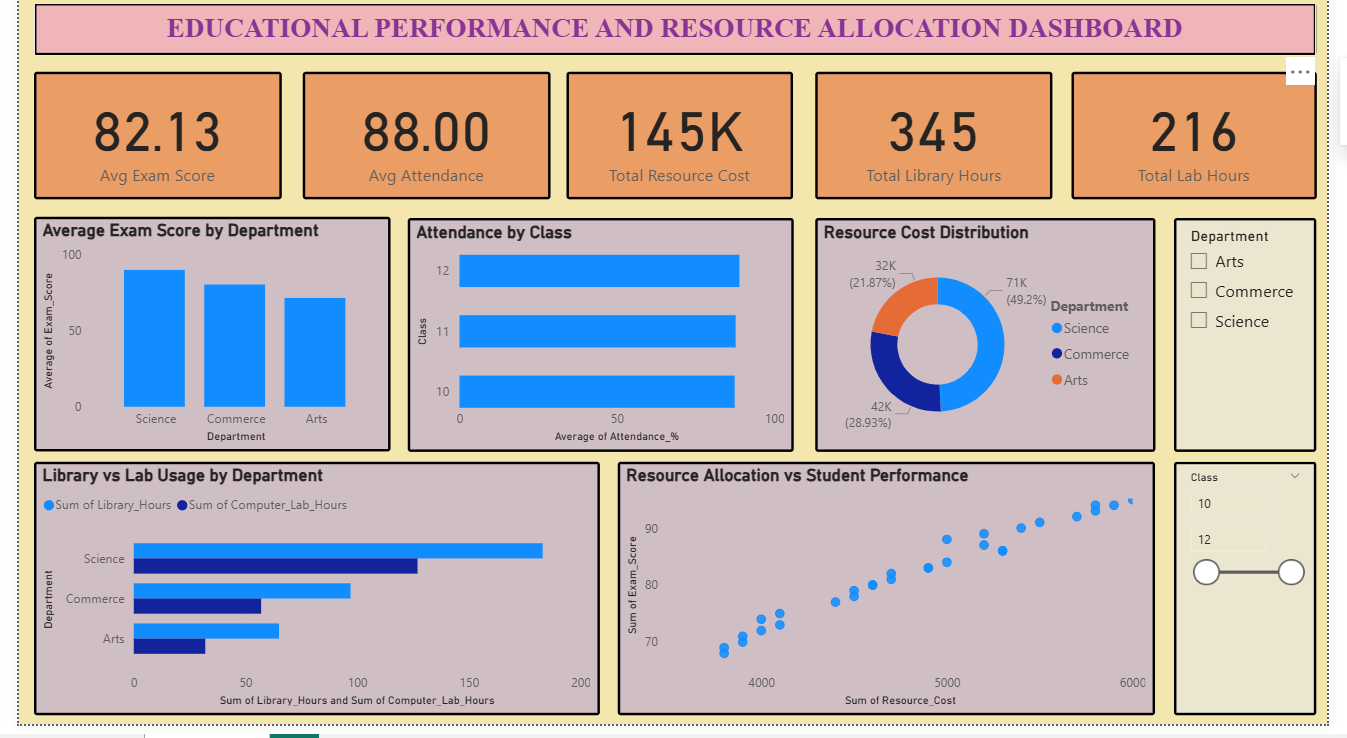

This screenshot's page, from the dashboard's own definition file:
{"tool":"powerbi","page":{"name":"Dashboard","canvas":[1280,720],"ordinal":0},"visuals":[{"type":"card","fields":{"Values":["Education.Avg Exam Score"]},"box":[14.7,81.9,242.1,124.7],"z":0},{"type":"card","fields":{"Values":["Education.Avg Attendance"]},"box":[277.6,81.9,242.1,124.7],"z":1},{"type":"card","fields":{"Values":["Education.Total Resource Cost"]},"box":[535.6,81.9,221.3,124.7],"z":2},{"type":"card","fields":{"Values":["Education.Total Library Hours"]},"box":[778.9,81.9,232.3,124.7],"z":3},{"type":"card","fields":{"Values":["Education.Total Lab Hours"]},"box":[1029.6,81.9,239.7,124.7],"z":4},{"type":"clusteredColumnChart","title":"Average Exam Score by Department","fields":{"Category":["Education.Department"],"Y":["Avg(Education.Exam_Score)"]},"box":[14.7,223.8,348.5,229.9],"z":5},{"type":"barChart","title":"Attendance by Class","fields":{"Category":["Education.Class"],"Y":["Avg(Education.Attendance_%)"]},"box":[380.3,225,377.9,228.7],"z":6},{"type":"donutChart","title":" Resource Cost Distribution","fields":{"Category":["Education.Department"],"Y":["Sum(Education.Resource_Cost)"]},"box":[778.9,225,332.6,228.7],"z":7},{"type":"clusteredBarChart","title":"Library vs Lab Usage by Department","fields":{"Category":["Education.Department"],"Y":["Sum(Education.Library_Hours)","Sum(Education.Computer_Lab_Hours)"]},"box":[14.7,463.5,553.9,248.2],"z":8},{"type":"scatterChart","title":"Resource Allocation vs Student Performance","fields":{"X":["Sum(Education.Resource_Cost)"],"Y":["Sum(Education.Exam_Score)"],"Category":["Education.Student_Name"]},"box":[585.7,463.5,525.8,248.2],"z":9},{"type":"slicer","fields":{"Values":["Education.Department"]},"box":[1129.9,225,139.4,228.7],"z":10},{"type":"slicer","fields":{"Values":["Education.Class"]},"box":[1129.9,463.5,139.4,248.2],"z":11},{"type":"textbox","box":[14.7,14.7,1254.6,51.4],"z":12}]}

Visuals, with their boxes in screenshot pixels (x1, y1, x2, y2), scaled from the page's 1280x720 canvas onto the 1347x738 screenshot:
card - Education.Avg Exam Score: 15/84/270/212
card - Education.Avg Attendance: 292/84/547/212
card - Education.Total Resource Cost: 564/84/797/212
card - Education.Total Library Hours: 820/84/1064/212
card - Education.Total Lab Hours: 1083/84/1336/212
"Average Exam Score by Department" clusteredColumnChart: 15/229/382/465
"Attendance by Class" barChart: 400/231/798/465
" Resource Cost Distribution" donutChart: 820/231/1170/465
"Library vs Lab Usage by Department" clusteredBarChart: 15/475/598/729
"Resource Allocation vs Student Performance" scatterChart: 616/475/1170/729
slicer - Education.Department: 1189/231/1336/465
slicer - Education.Class: 1189/475/1336/729
textbox: 15/15/1336/68
